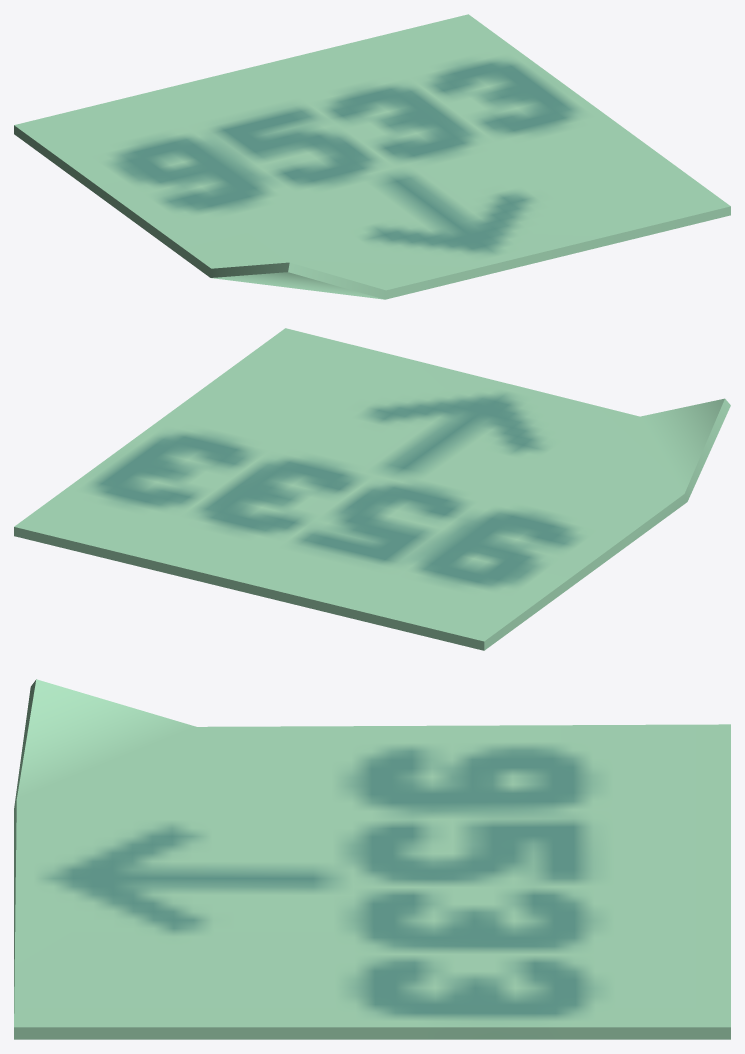
Rendered from Asset_NumbersNote.fbx.
The picture shows the model from 3 angles, top to bottom: view 1: azimuth 30°, elevation 25°; view 2: azimuth 150°, elevation 25°; view 3: azimuth 270°, elevation 25°; orthographic projection. The views are drawn at different scales.
Parts seen in each view (by area): view 1: Asset_NumbersNote; view 2: Asset_NumbersNote; view 3: Asset_NumbersNote.
Boxes of the visible parts, x1,y1,x2,y2 form: Asset_NumbersNote: (14,14,730,299); Asset_NumbersNote: (14,328,730,650); Asset_NumbersNote: (14,679,730,1039).
Bounding box in the file's own units: 40.55 × 4.48 × 40.55.
